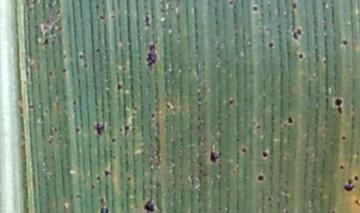tarspot: (146, 42, 158, 69), (92, 119, 107, 137), (209, 144, 222, 164), (142, 198, 155, 213), (343, 177, 355, 193), (333, 96, 344, 107), (97, 206, 111, 213), (286, 115, 294, 126), (143, 14, 150, 26), (250, 4, 258, 14), (123, 124, 129, 137), (335, 106, 343, 115), (296, 52, 304, 61), (266, 40, 274, 49), (71, 98, 79, 107), (291, 30, 298, 40), (257, 174, 265, 182), (341, 39, 349, 47), (42, 37, 50, 45), (353, 198, 360, 207), (296, 26, 302, 36), (321, 58, 328, 66), (125, 175, 133, 182), (353, 174, 359, 183), (261, 149, 267, 158), (226, 1, 235, 7), (291, 1, 296, 11), (103, 169, 110, 176), (61, 53, 68, 60), (75, 192, 82, 199), (227, 98, 235, 104), (99, 197, 105, 205), (116, 82, 122, 90), (99, 14, 105, 22), (77, 53, 85, 59), (94, 3, 100, 11), (75, 126, 81, 134), (164, 102, 170, 110), (83, 61, 88, 70), (341, 135, 347, 142), (89, 183, 95, 190), (110, 137, 117, 143), (94, 47, 100, 54), (266, 195, 272, 202), (57, 135, 63, 142), (338, 165, 344, 171), (241, 147, 247, 153), (256, 124, 262, 130), (95, 175, 101, 181), (62, 67, 67, 74), (109, 14, 116, 19), (150, 113, 155, 119), (48, 139, 53, 145), (48, 71, 52, 76)
